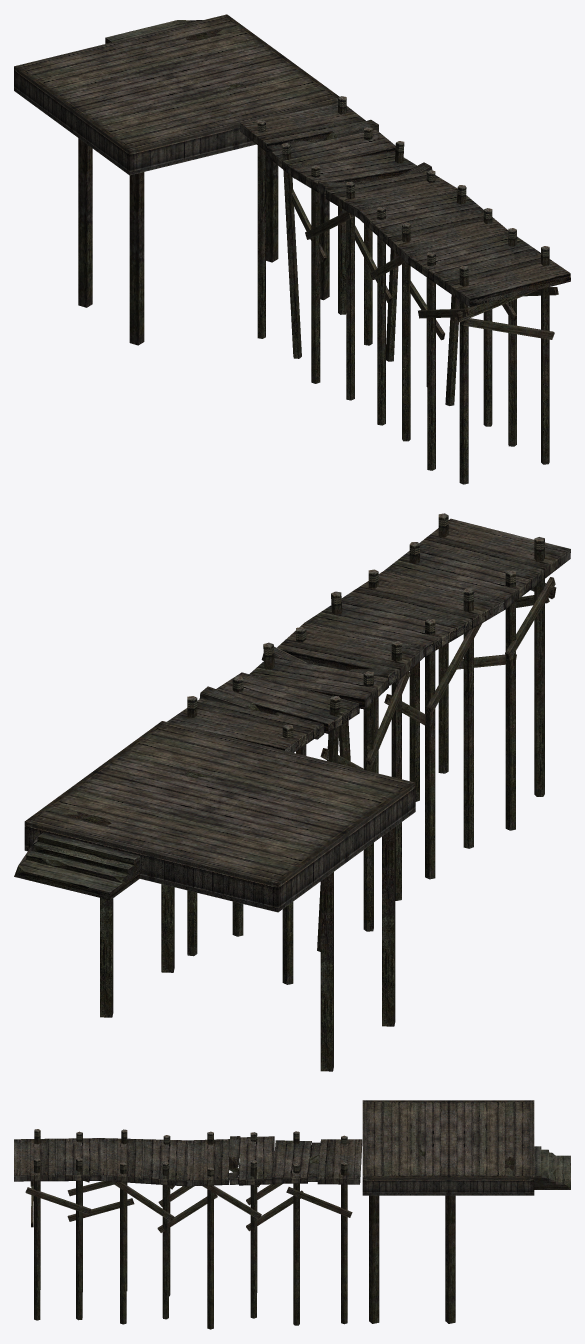
Rendered from b_old_dock_obj_02.glb.
The picture shows the model from 3 angles, top to bottom: view 1: azimuth 30°, elevation 25°; view 2: azimuth 150°, elevation 25°; view 3: azimuth 270°, elevation 25°; orthographic projection. The views are drawn at different scales.
Visible parts, largest first — view 1: objB_old_dock_obj_02; view 2: objB_old_dock_obj_02; view 3: objB_old_dock_obj_02.
Boxes of the visible parts, left/top/right/bottom form: objB_old_dock_obj_02: left=14, top=14, right=570, bottom=484; objB_old_dock_obj_02: left=14, top=513, right=570, bottom=1071; objB_old_dock_obj_02: left=14, top=1100, right=570, bottom=1329.
Bounding box in the file's own units: 10.57 × 10.65 × 32.13.
Materials: 1 (1 with a texture image).
